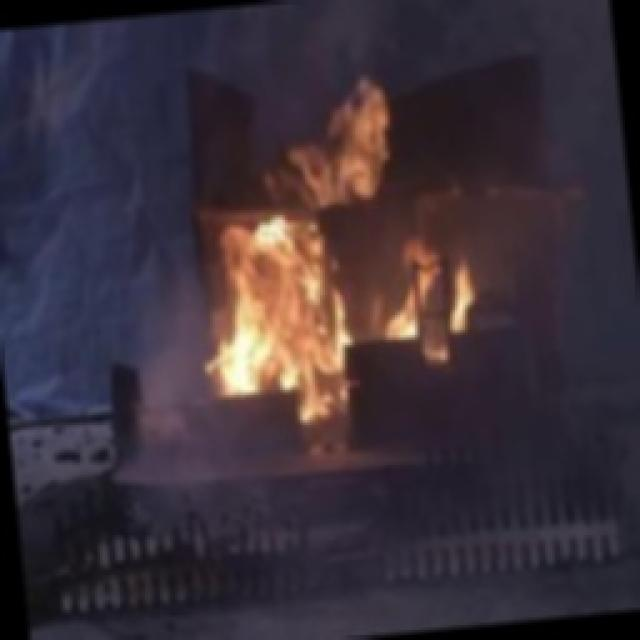fire: (184, 74, 454, 436)
